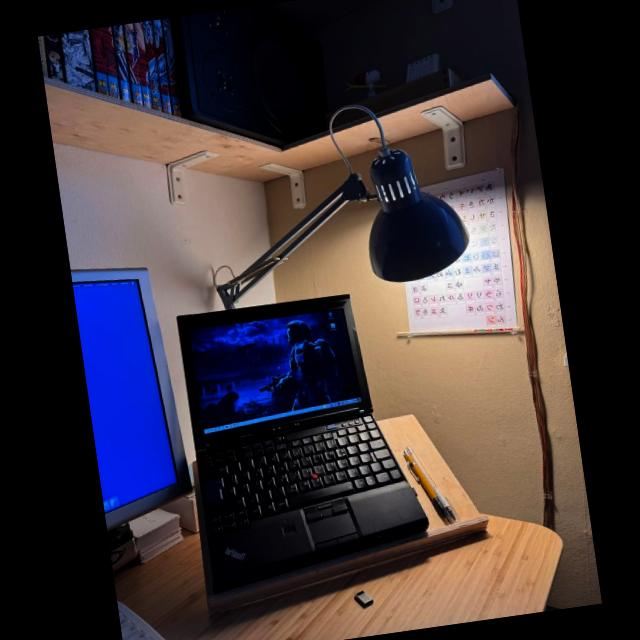laptop: (179, 296, 428, 592)
